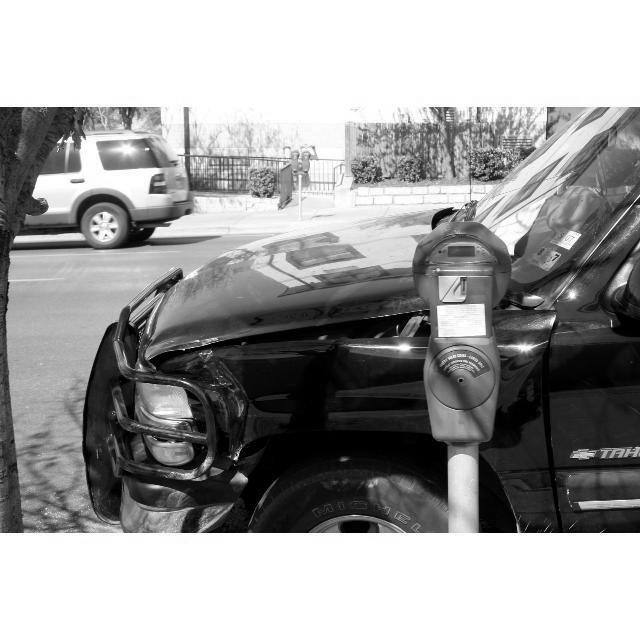bonnet-dent: (146, 228, 486, 360)
fender-dent: (213, 331, 553, 479)
